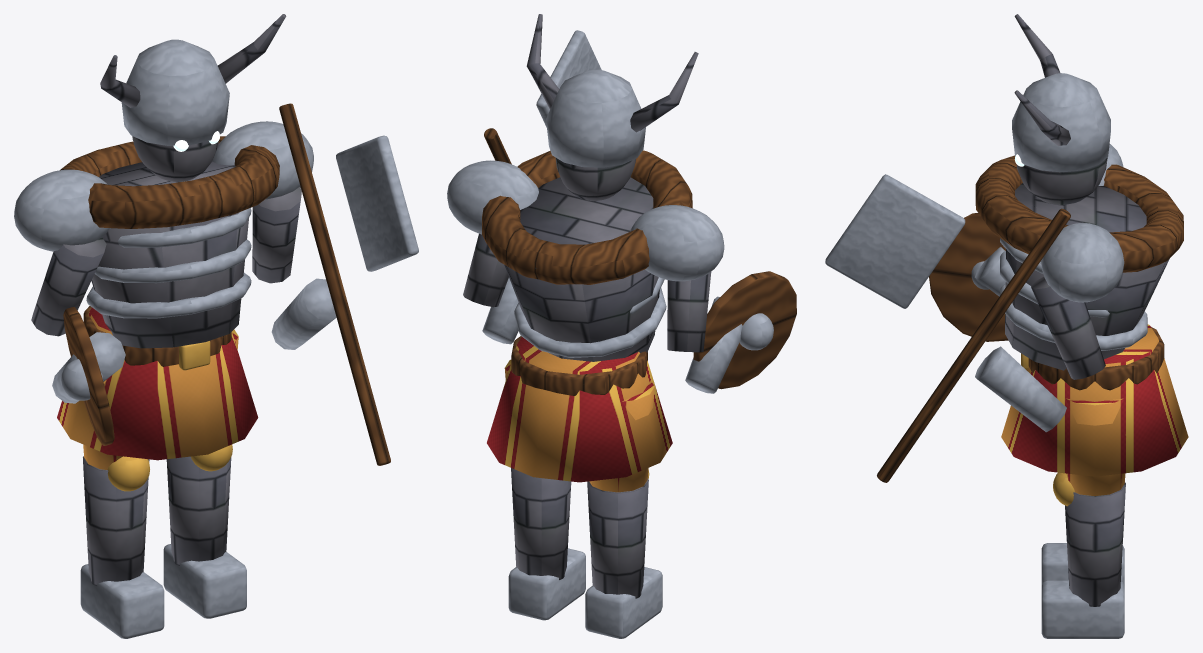
The model's file is draugr_raider.glb.
3 views of the same model, side by side, from view 1: azimuth 30°, elevation 25°; view 2: azimuth 150°, elevation 25°; view 3: azimuth 270°, elevation 25° (orthographic). The views are drawn at different scales.
Visible parts, largest first — view 1: TatteredKilt, DraugrTorso, FurMantle, DraugrHelm, AxeBlade, Greave, Greave.001, AxeHaft, RustPauldron, Boot, Boot.001, ArmUpper (+16 smaller); view 2: TatteredKilt, DraugrTorso, FurMantle, DraugrHelm, Buckler, Greave, Greave.001, RustPauldron, RustPauldron.001, Boot.001, Boot, DraugrBelt (+12 smaller); view 3: TatteredKilt, AxeBlade, FurMantle, DraugrTorso, DraugrHelm, Greave.001, Buckler, RustPauldron.001, AxeHaft, Boot.001, ArmUpper.001, ArmLower.001 (+10 smaller).
Boxes of the visible parts, <box> form: TatteredKilt: <box>57,307,258,460</box>; DraugrTorso: <box>91,161,248,348</box>; FurMantle: <box>60,136,279,228</box>; DraugrHelm: <box>121,39,229,145</box>; AxeBlade: <box>336,135,418,271</box>; Greave: <box>83,456,149,585</box>; Greave.001: <box>166,456,231,565</box>; AxeHaft: <box>279,103,390,465</box>; RustPauldron: <box>14,169,109,251</box>; Boot: <box>80,564,164,638</box>; Boot.001: <box>163,544,246,618</box>; ArmUpper: <box>31,237,106,336</box>; TatteredKilt: <box>487,337,672,482</box>; DraugrTorso: <box>504,177,659,361</box>; FurMantle: <box>482,150,692,284</box>; DraugrHelm: <box>546,69,645,167</box>; Buckler: <box>693,271,796,389</box>; Greave: <box>587,478,648,598</box>; Greave.001: <box>511,468,571,579</box>; RustPauldron: <box>630,205,724,281</box>; RustPauldron.001: <box>447,160,538,234</box>; Boot.001: <box>508,548,585,620</box>; Boot: <box>585,567,662,638</box>; DraugrBelt: <box>511,336,647,395</box>; TatteredKilt: <box>1001,324,1188,476</box>; AxeBlade: <box>825,174,965,308</box>; FurMantle: <box>975,155,1183,272</box>; DraugrTorso: <box>1005,183,1183,370</box>; DraugrHelm: <box>1012,73,1110,172</box>; Greave.001: <box>1065,482,1125,606</box>; Buckler: <box>929,213,1008,341</box>; RustPauldron.001: <box>1041,222,1124,302</box>; AxeHaft: <box>877,208,1070,482</box>; Boot.001: <box>1041,580,1124,638</box>; ArmUpper.001: <box>1031,277,1105,379</box>; ArmLower.001: <box>975,346,1066,432</box>.
Bounding box in the file's own units: 1.05 × 2.04 × 1.2.
Materials: 9 (8 with a texture image).
